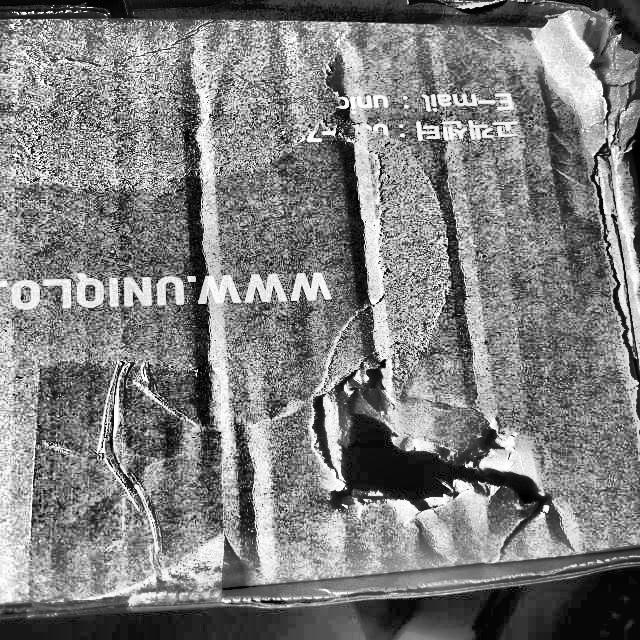box: (0, 2, 640, 612)
hole: (289, 366, 559, 566)
